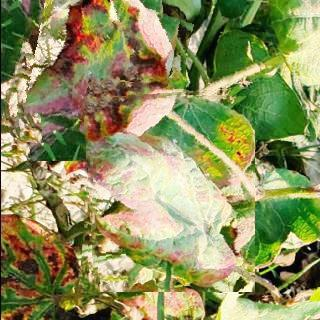blight: (82, 87, 254, 292), (7, 0, 185, 156)
